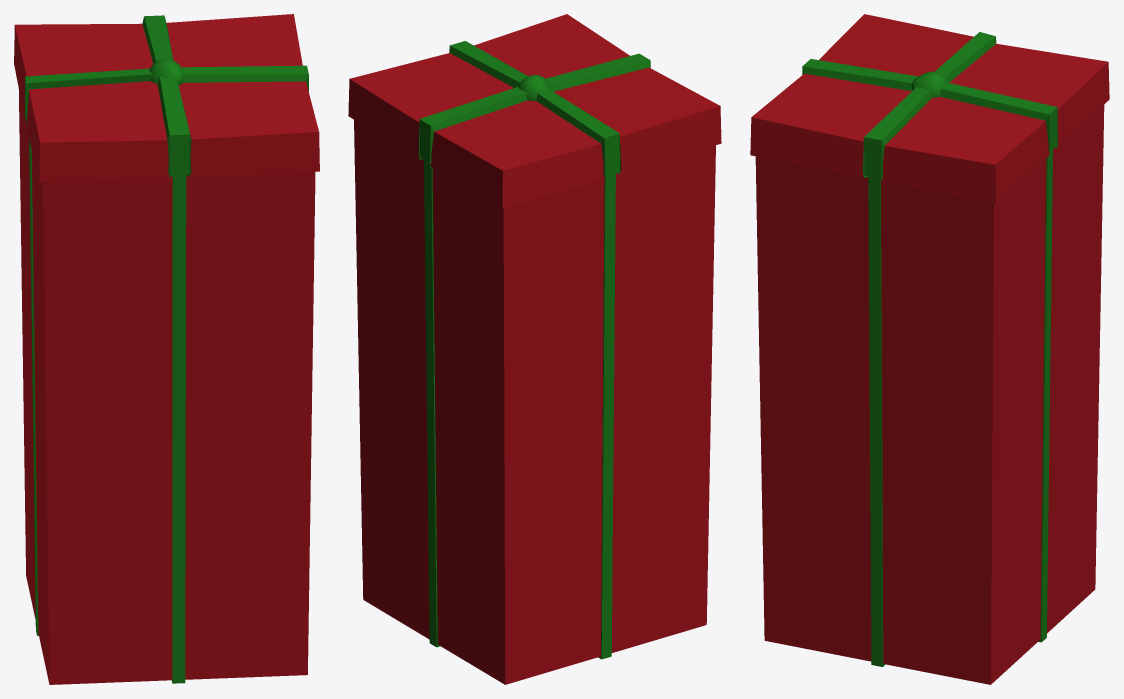
Rendered from GiftBoxTall.fbx.
The picture shows the model from 3 angles, left to right: view 1: azimuth 30°, elevation 25°; view 2: azimuth 150°, elevation 25°; view 3: azimuth 270°, elevation 25°; orthographic projection. The views are drawn at different scales.
Visible parts, largest first — view 1: Cube.003, Sphere.003; view 2: Cube.003; view 3: Cube.003, Sphere.003.
Boxes of the visible parts, <box> form: Cube.003: <box>14,14,319,684</box>; Sphere.003: <box>149,58,184,85</box>; Cube.003: <box>348,14,721,684</box>; Cube.003: <box>750,14,1109,684</box>; Sphere.003: <box>911,71,947,97</box>.
Size of the model in its own units: 36.04 by 60.43 by 36.04.
